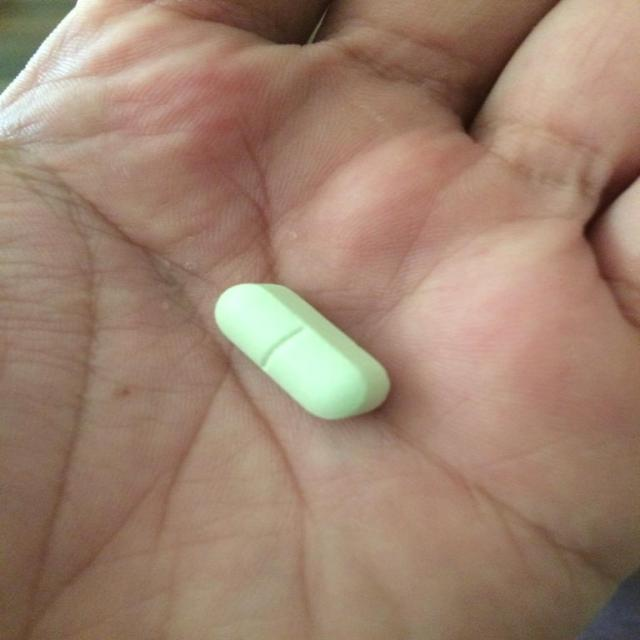pills: (197, 269, 410, 435)
